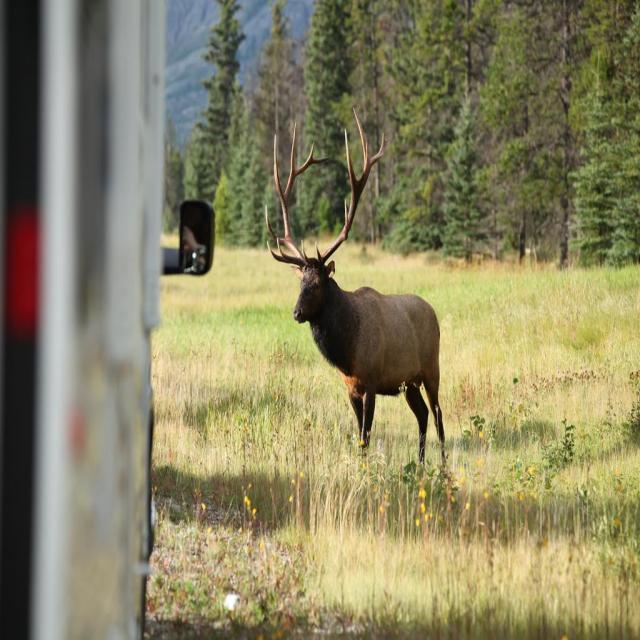Deer: (264, 109, 447, 466)
